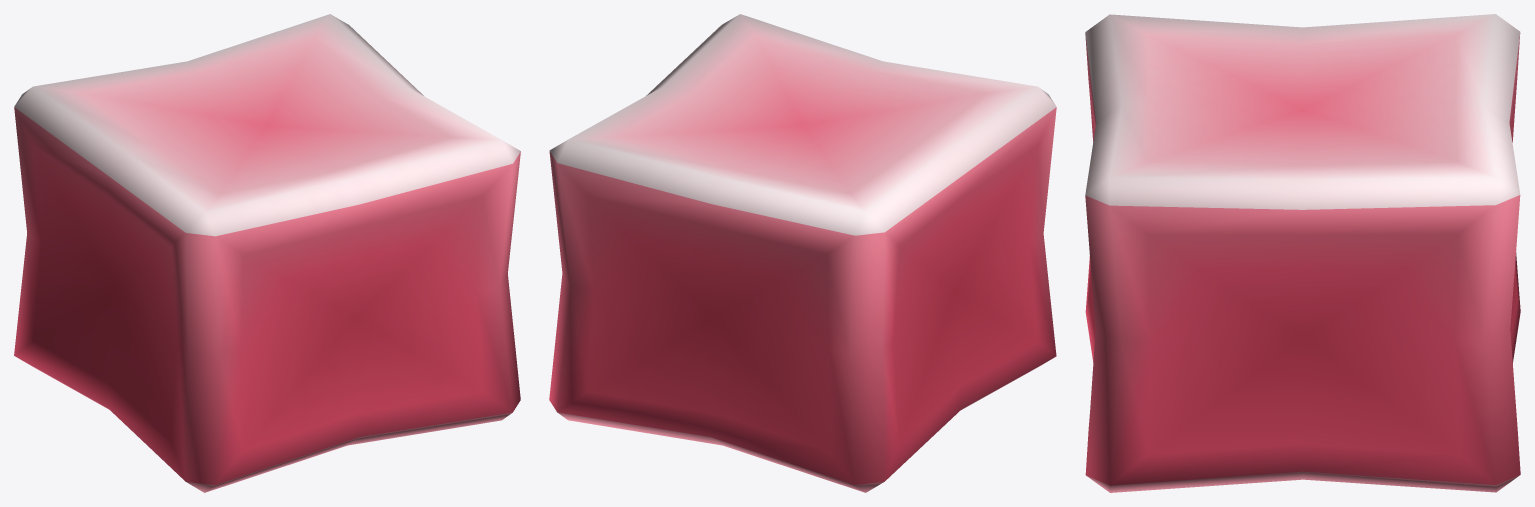
Rendered from m_TurkishDelight_Lokum06.fbx.
The picture shows the model from 3 angles, left to right: view 1: azimuth 30°, elevation 25°; view 2: azimuth 150°, elevation 25°; view 3: azimuth 270°, elevation 25°; orthographic projection. The views are drawn at different scales.
Parts seen in each view (by area): view 1: m_TurkishDelight_Lokum06; view 2: m_TurkishDelight_Lokum06; view 3: m_TurkishDelight_Lokum06.
Part boxes in pixels (left/top/right/bottom): m_TurkishDelight_Lokum06: left=14, top=14, right=520, bottom=492; m_TurkishDelight_Lokum06: left=549, top=14, right=1056, bottom=492; m_TurkishDelight_Lokum06: left=1085, top=14, right=1520, bottom=492.
Bounding box in the file's own units: 4.9 × 3.93 × 4.9.
